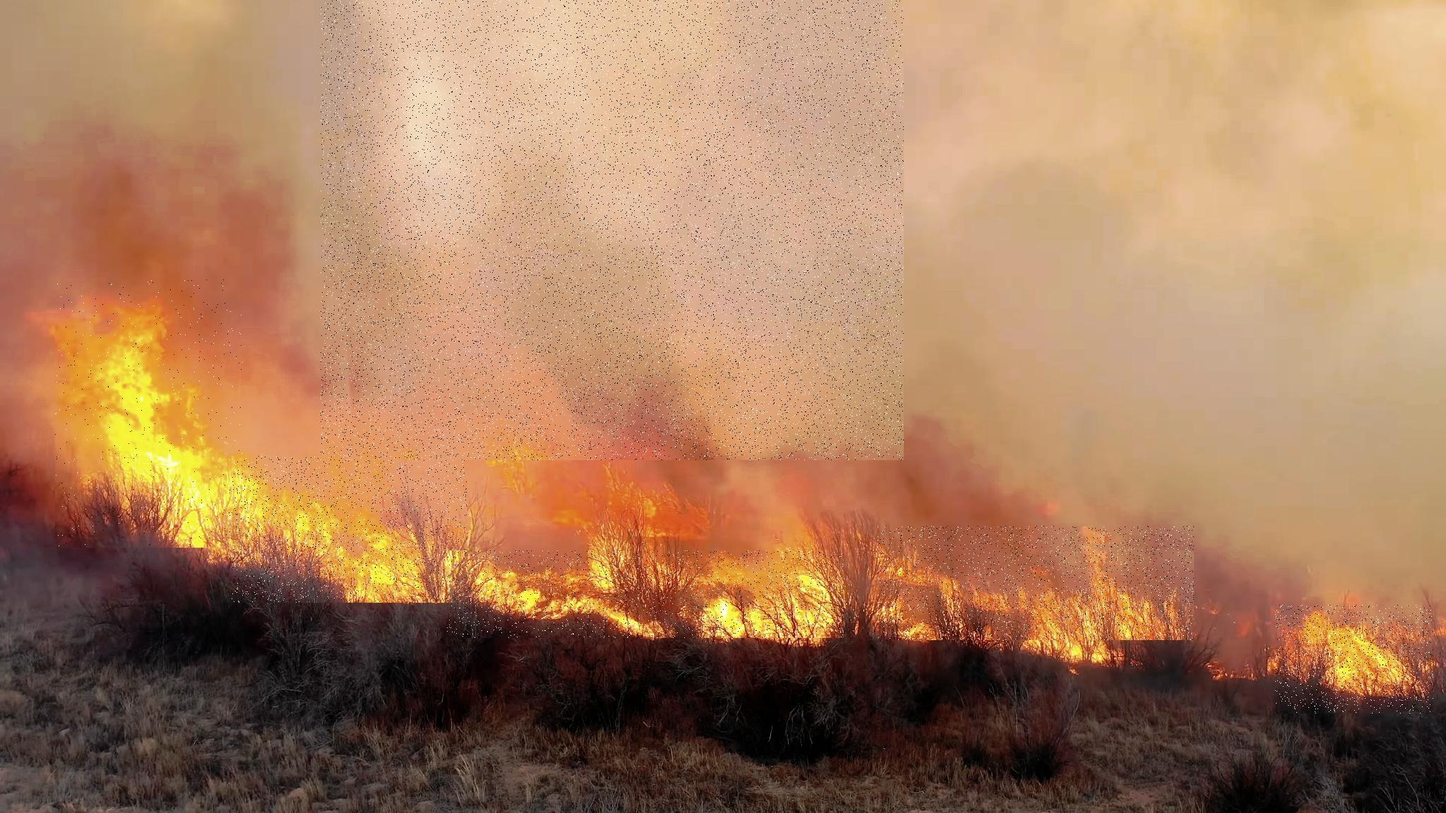fire: (55, 279, 243, 548), (878, 526, 1194, 640), (447, 550, 844, 638), (232, 456, 467, 603), (1275, 605, 1433, 713)
smoke: (321, 0, 904, 460)
